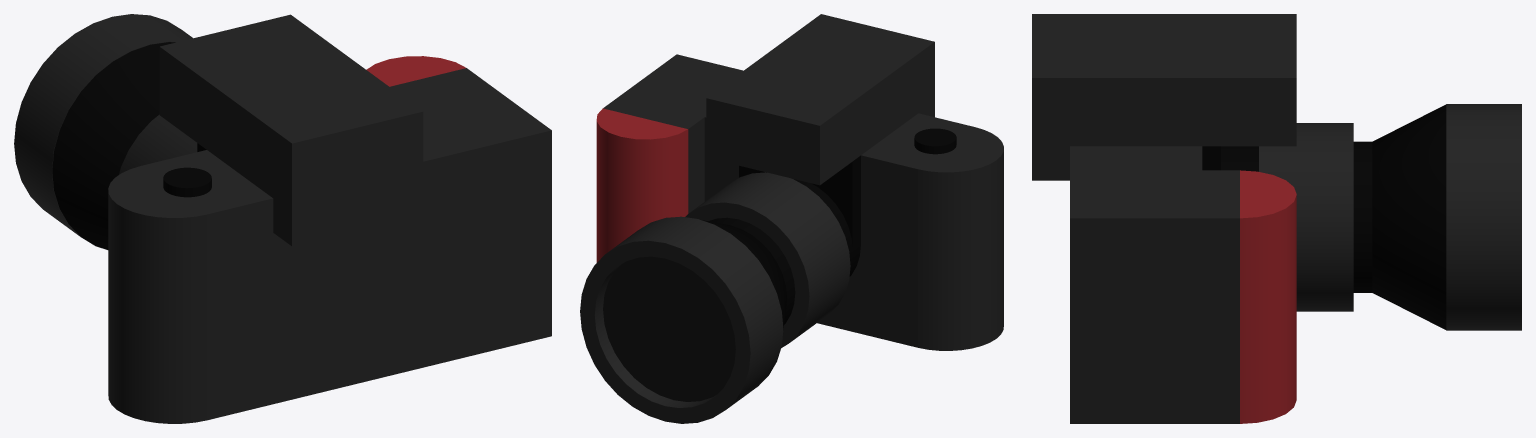
File: CAM NOVA (CTRL J).fbx
3 views of the same model, side by side, from view 1: azimuth 30°, elevation 25°; view 2: azimuth 150°, elevation 25°; view 3: azimuth 270°, elevation 25° (orthographic). The views are drawn at different scales.
Parts seen in each view (by area): view 1: 3; view 2: 3; view 3: 3.
Boxes of the visible parts, x1,y1,x2,y2 form: 3: [14, 14, 551, 423]; 3: [580, 14, 1003, 423]; 3: [1032, 14, 1521, 423].
Size of the model in its own units: 0.2519 by 0.1645 by 0.2664.
